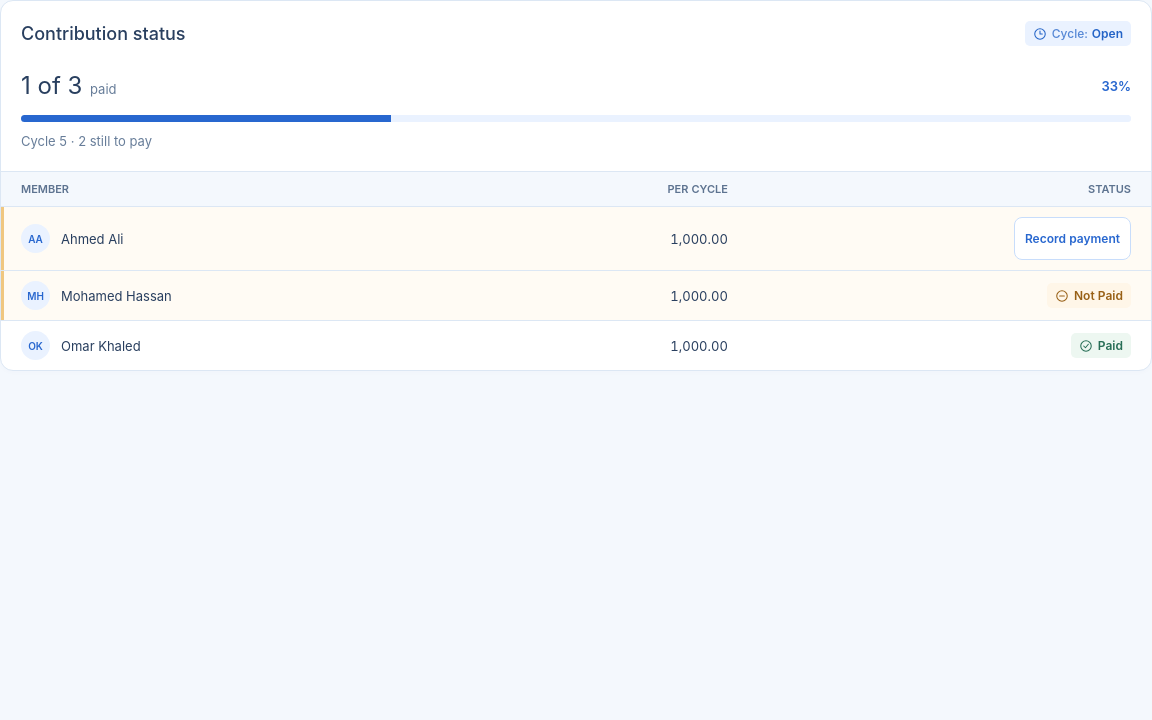
it: Record payment › shows the server's error and keeps the confirmation open
The width and height of the screenshot is (1152, 720).
Click the button with aria-label "Record payment for Ahmed Ali" at (1072, 238), box left=1014, top=217, right=1131, bottom=260
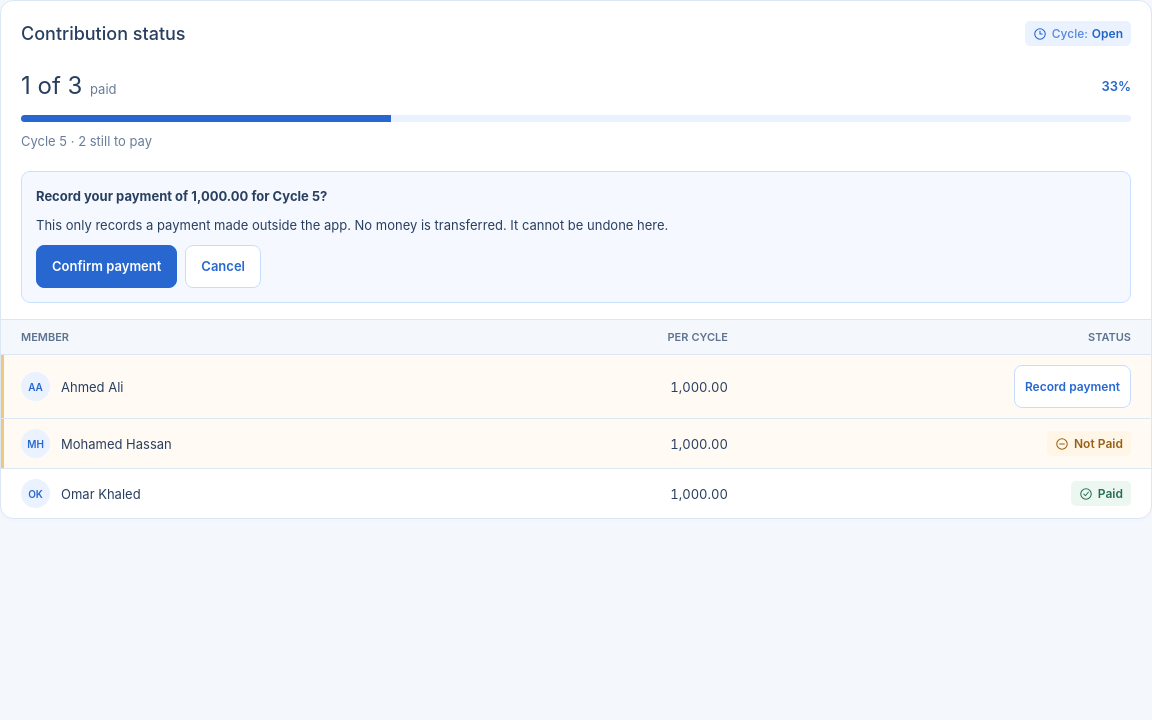
Click the button "Confirm payment" at (107, 267), box left=36, top=245, right=177, bottom=288
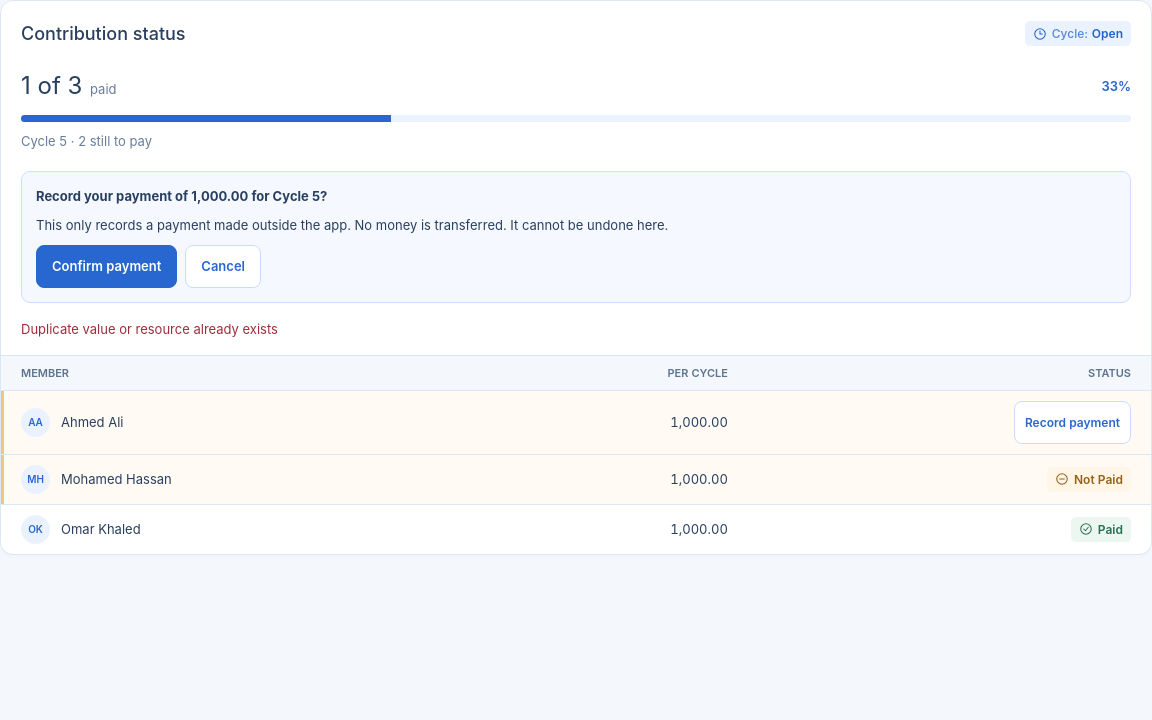
Expected: the button "Confirm payment" is shown, left=36, top=245, right=177, bottom=288
Expected: the message shows "Duplicate", left=21, top=321, right=278, bottom=337
